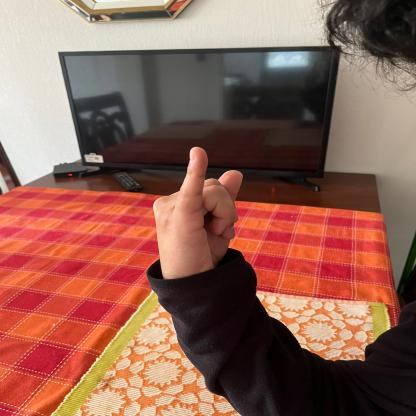I: (150, 142, 248, 284)
